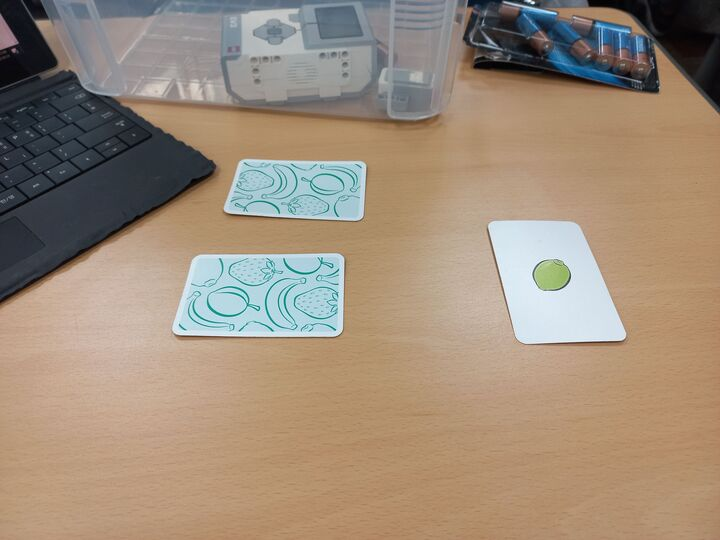lime1: (487, 218, 629, 347)
